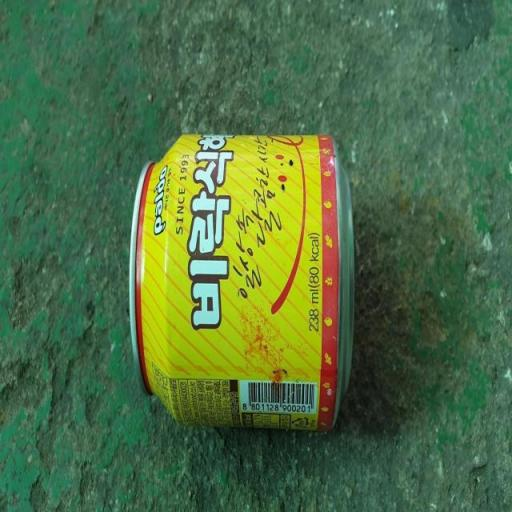metal: (100, 115, 398, 505)
